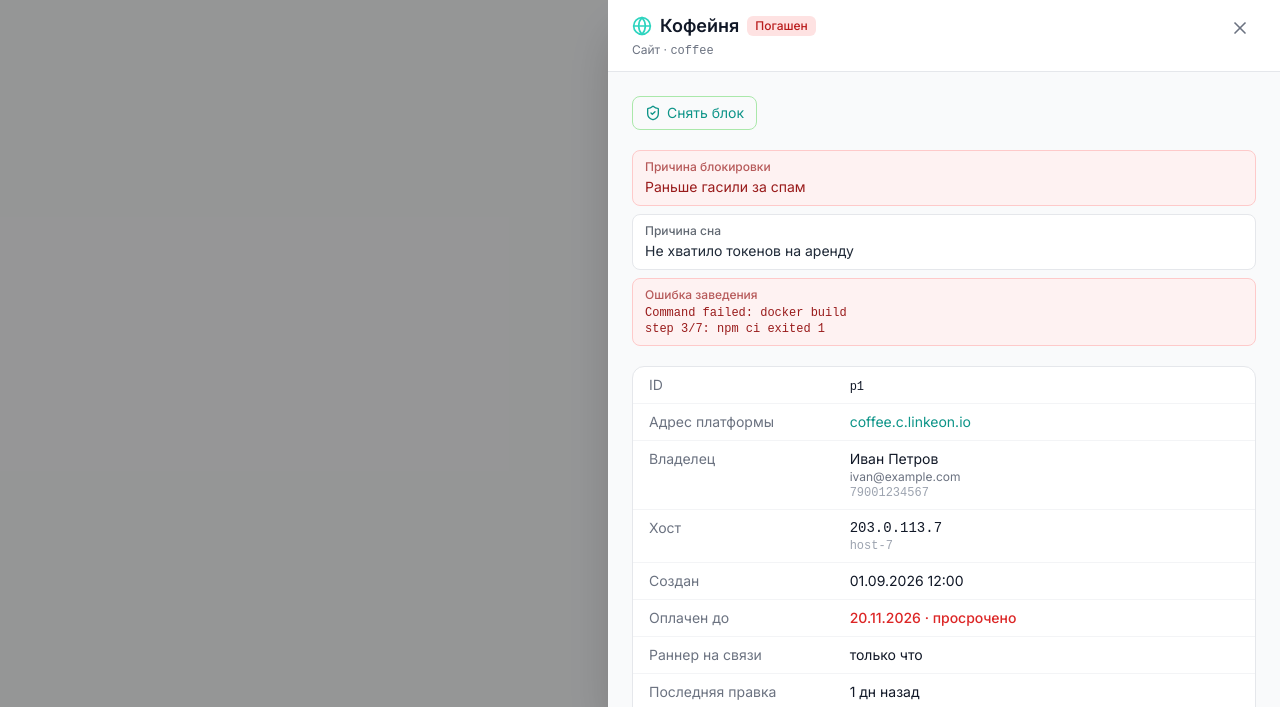
Test: «Снять блок» › сначала подтверждение, потом уходит {key}; строка результата; перечитано
Click the button "Снять блок". click: {"x": 695, "y": 113}
box: [632,96,757,130]
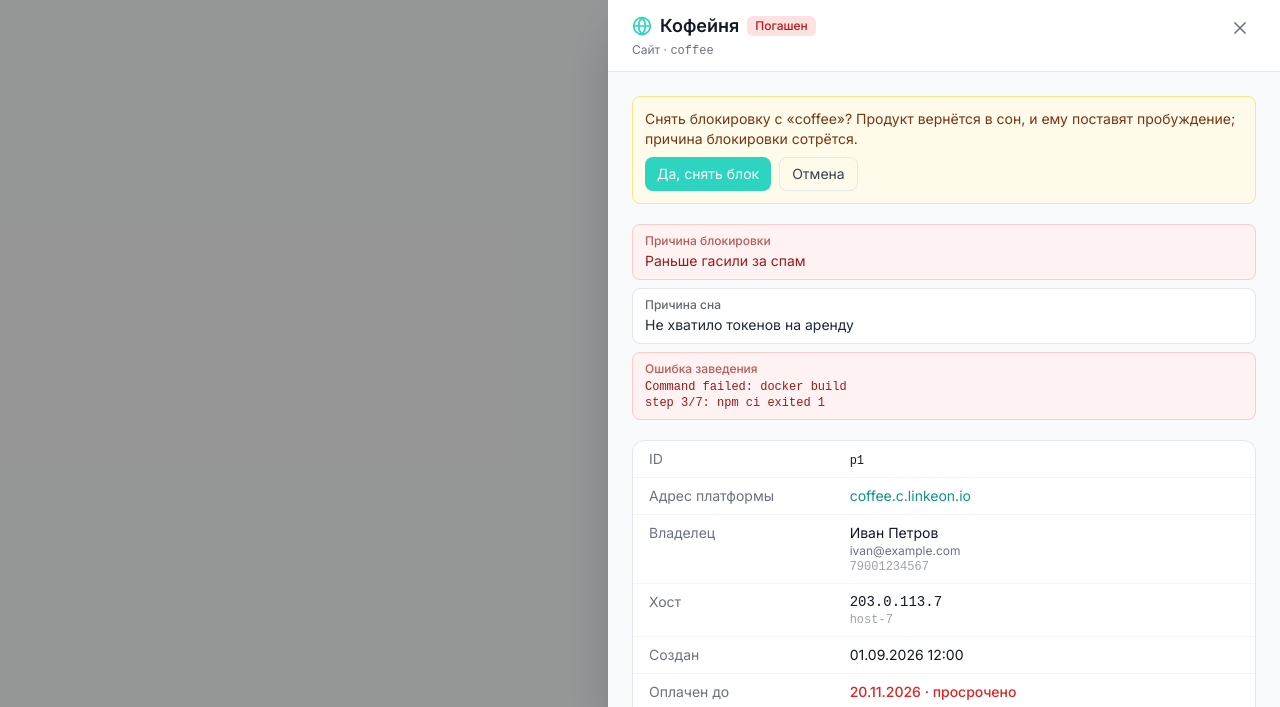
Click the button "Да, снять блок". click: {"x": 708, "y": 174}
box: [645,157,771,191]
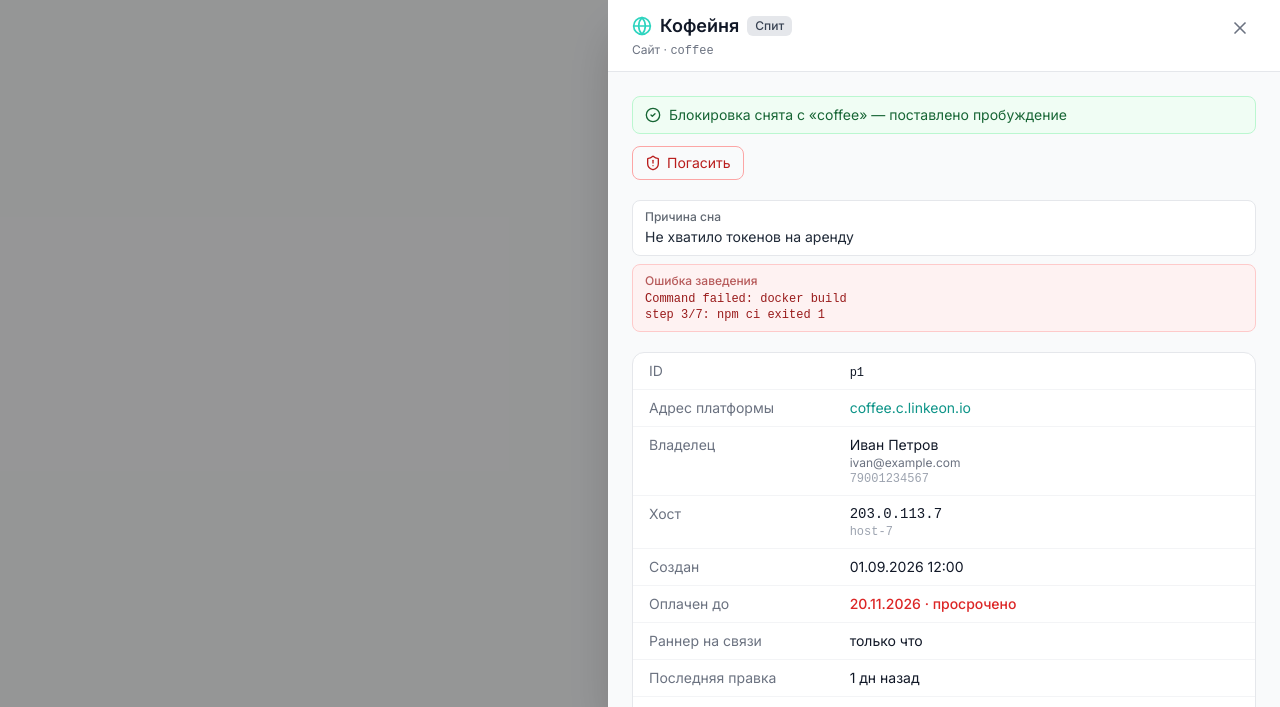
expect the text "Спит" is shown: met, box [747,16,792,36]
